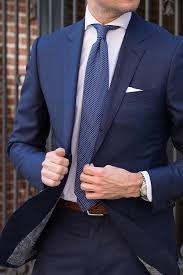F_M_suit jacket: (1, 4, 178, 274)
F_belt: (51, 192, 120, 223)
F_tie: (76, 27, 116, 176)
